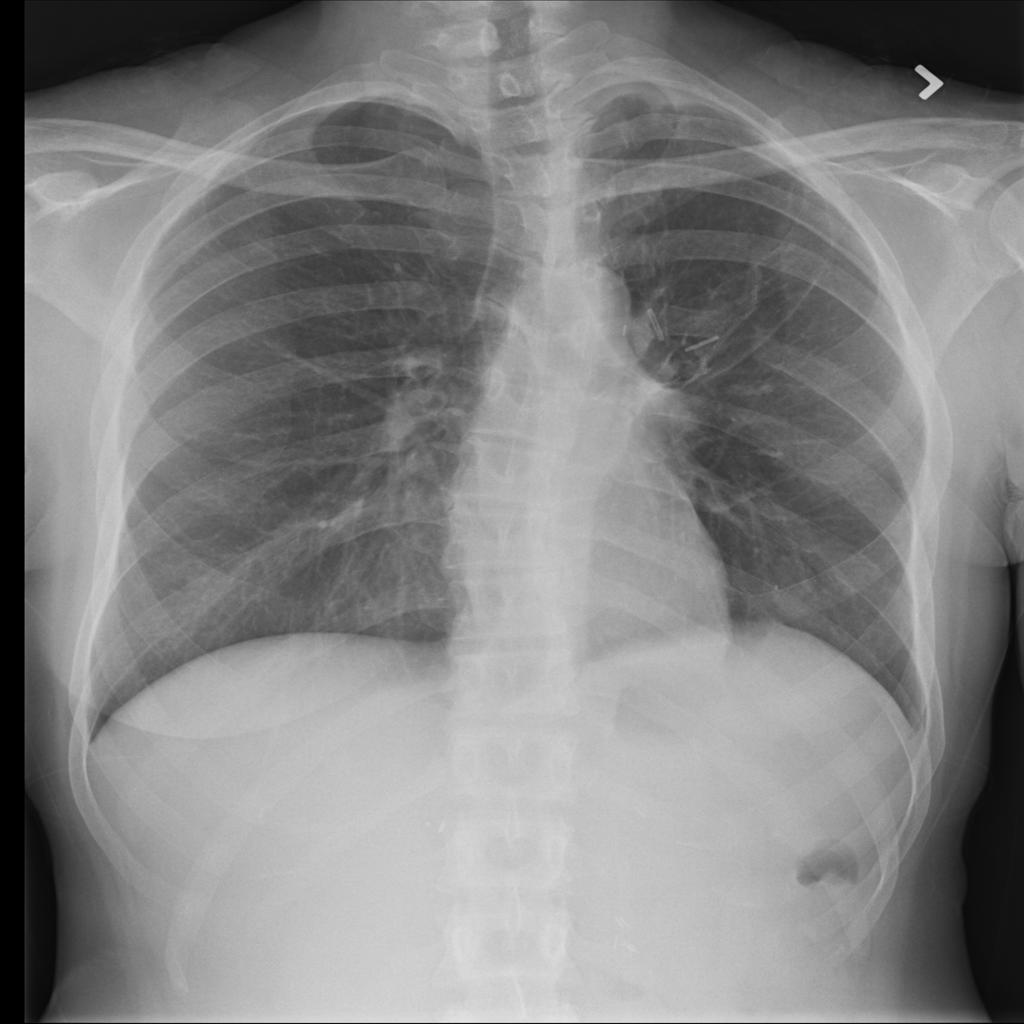nodule: (750, 549, 832, 625)
